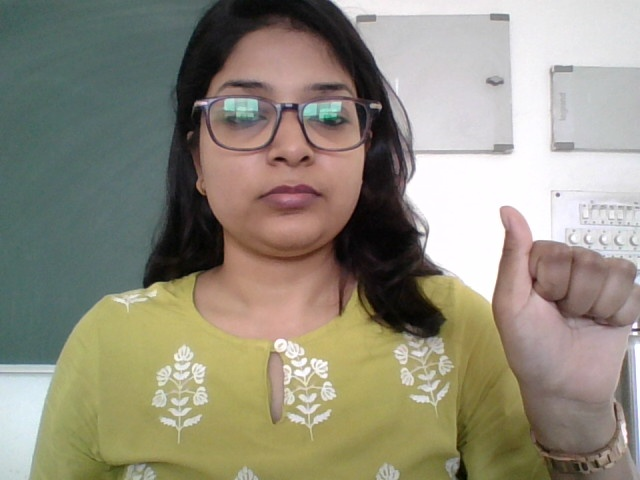A: (473, 191, 640, 430)
